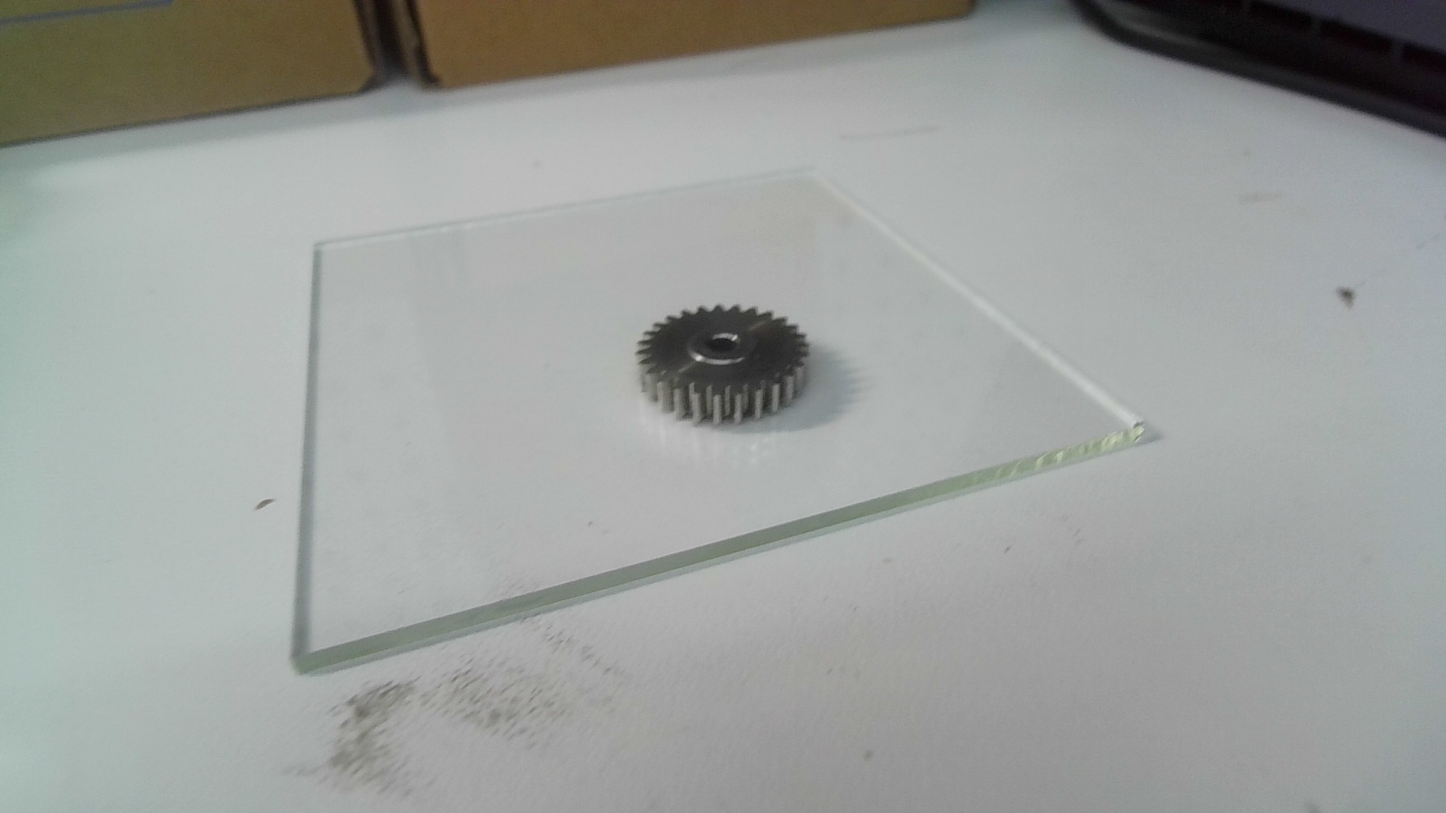gear: (634, 303, 812, 429)
